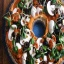pizza: (6, 1, 64, 64)
